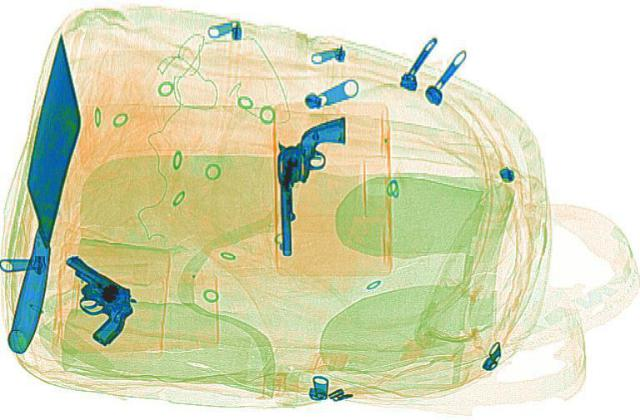Gun: (13, 249, 165, 344), (272, 115, 350, 253)
Knife: (3, 31, 91, 351)
